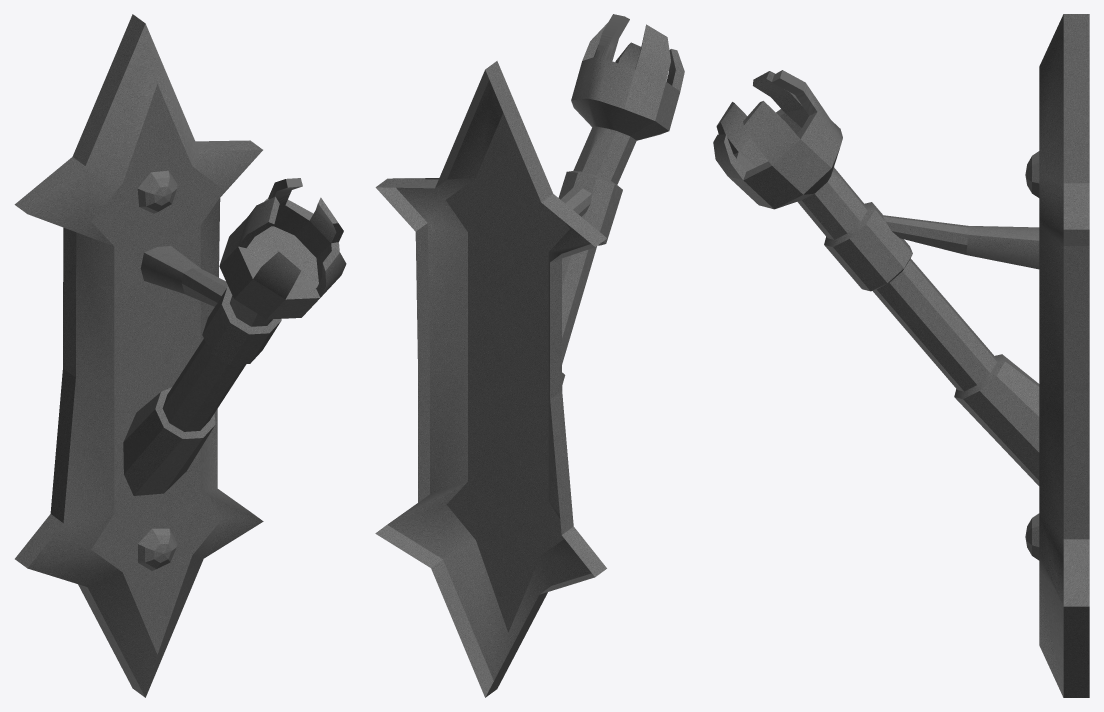
The model's file is Prop_Torch.fbx.
The picture shows the model from 3 angles, left to right: view 1: azimuth 30°, elevation 25°; view 2: azimuth 150°, elevation 25°; view 3: azimuth 270°, elevation 25°; orthographic projection. The views are drawn at different scales.
Visible parts, largest first — view 1: Prop_Torch; view 2: Prop_Torch; view 3: Prop_Torch.
Part boxes in pixels (x1,y1,x2,y2): Prop_Torch: (14, 14, 346, 697); Prop_Torch: (375, 14, 684, 697); Prop_Torch: (713, 14, 1089, 697).
Bounding box in the file's own units: 0.2265 × 0.6177 × 0.3082.
Materials: 1 (1 with a texture image).
